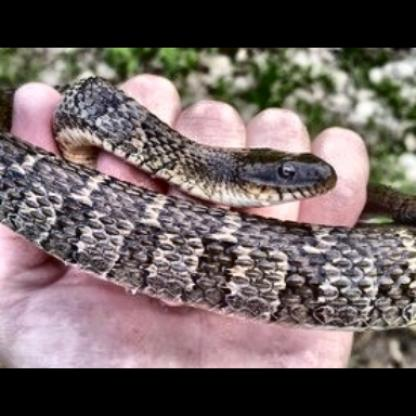Snake: (5, 80, 413, 326)
